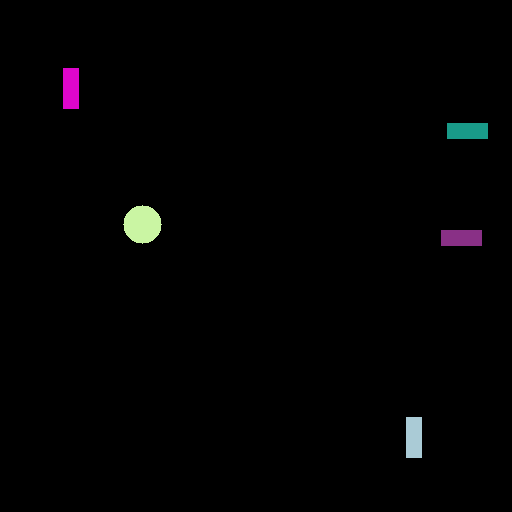circle: (124, 204, 162, 242)
side_rect: (444, 122, 491, 142), (440, 227, 487, 247)
up_rect: (406, 414, 425, 460), (62, 64, 81, 110)
